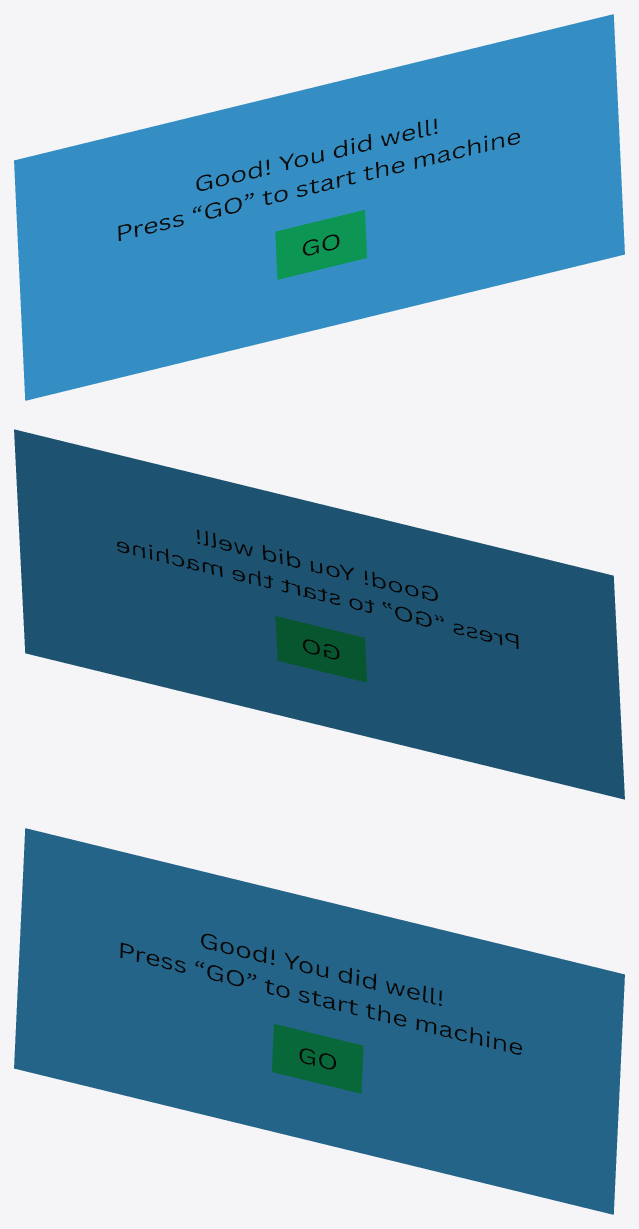
File: ScreenHMI_Go.glb
The picture shows the model from 3 angles, top to bottom: view 1: azimuth 30°, elevation 25°; view 2: azimuth 150°, elevation 25°; view 3: azimuth 330°, elevation 25°; orthographic projection.
Parts seen in each view (by area): view 1: ScreenHMI_Go; view 2: ScreenHMI_Go; view 3: ScreenHMI_Go.
Boxes of the visible parts, box(x1,y1,x2,y2) form: ScreenHMI_Go: box(14, 14, 624, 400); ScreenHMI_Go: box(14, 429, 624, 799); ScreenHMI_Go: box(14, 828, 624, 1214).
Size of the model in its own units: 0.266 by 0.0984 by 0.00861.
1 material, 1 textured.
